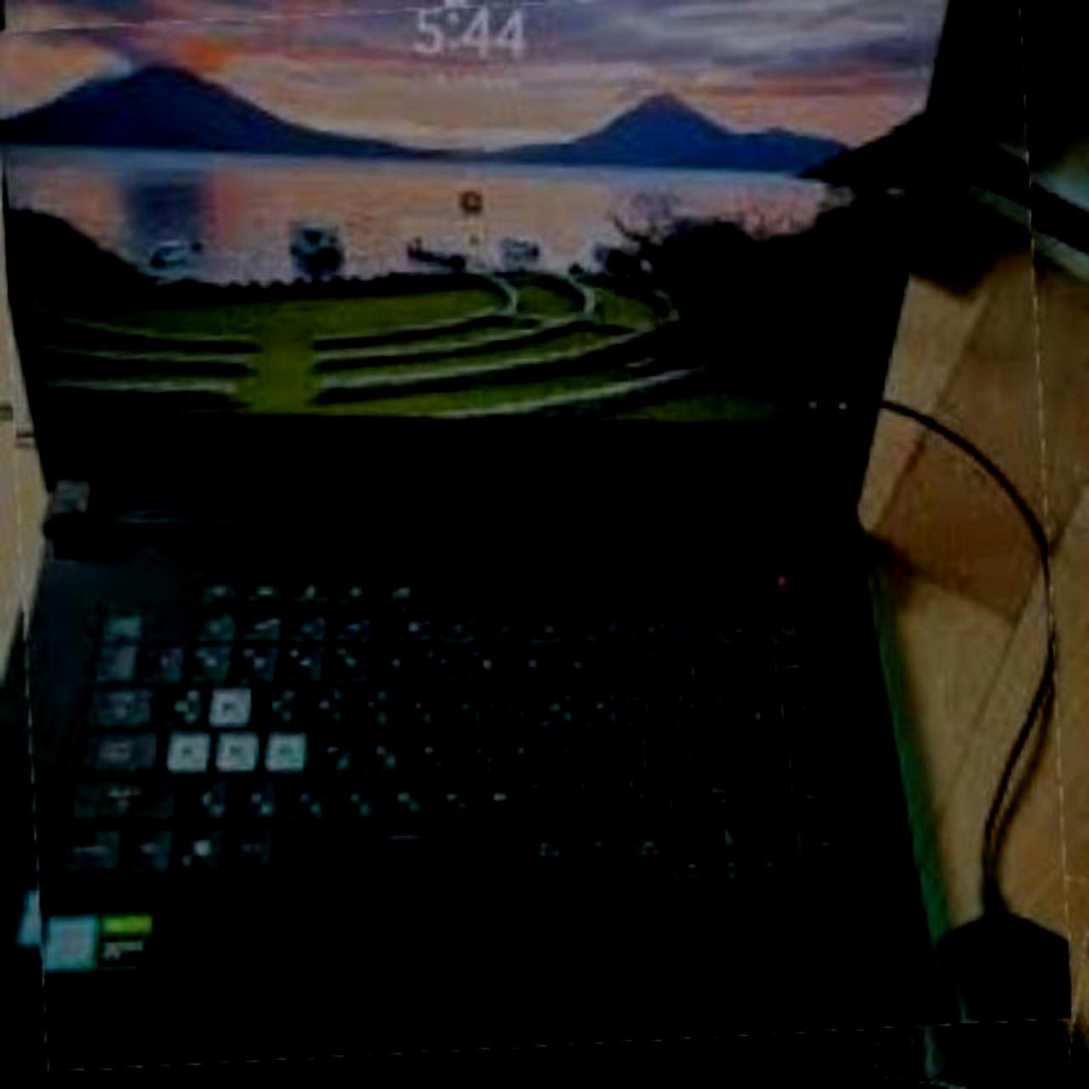laptop: (5, 1, 1057, 1058)
